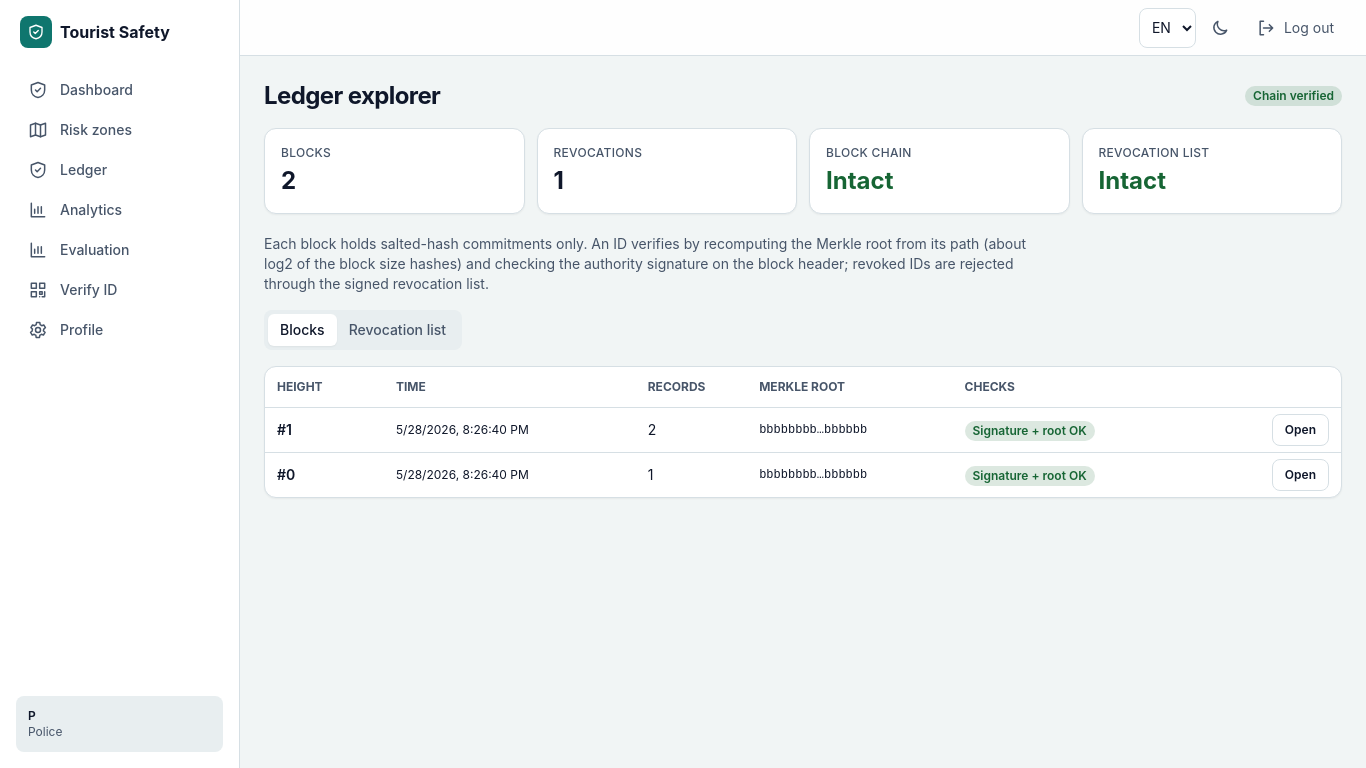
Test: opening a block shows hashes only, the Merkle path length, and revoked state per record
The width and height of the screenshot is (1366, 768).
Click the button with aria-label "Open block 1" at (1300, 430), box [1272, 414, 1329, 446]
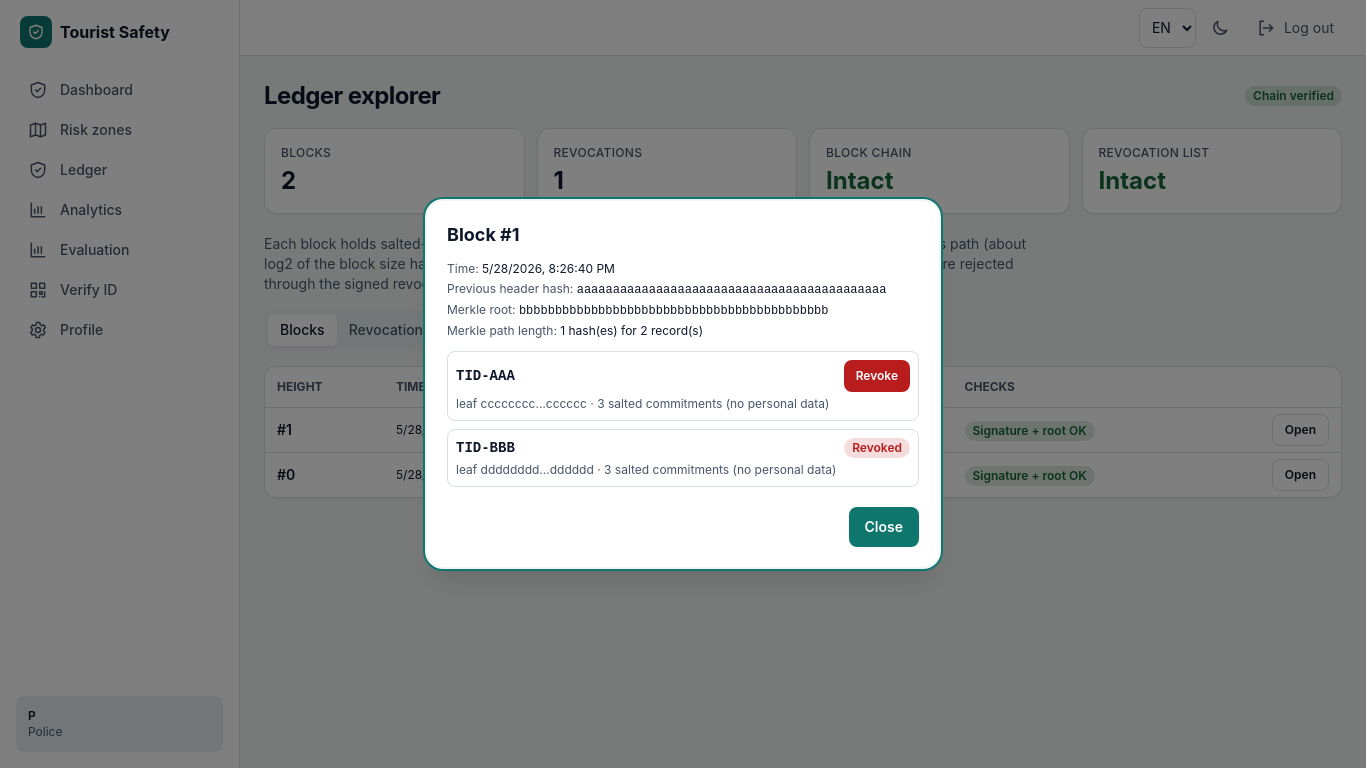
Expected: the text "1 hash(es) for 2 record(s)" is shown, [560, 323, 703, 338]
Expected: the text "3 salted commitments (no personal data)" is shown 2 times, [456, 396, 829, 411]; [456, 462, 836, 477]
Expected: the button with aria-label "Revoke TID-AAA" is shown, [844, 360, 910, 392]
